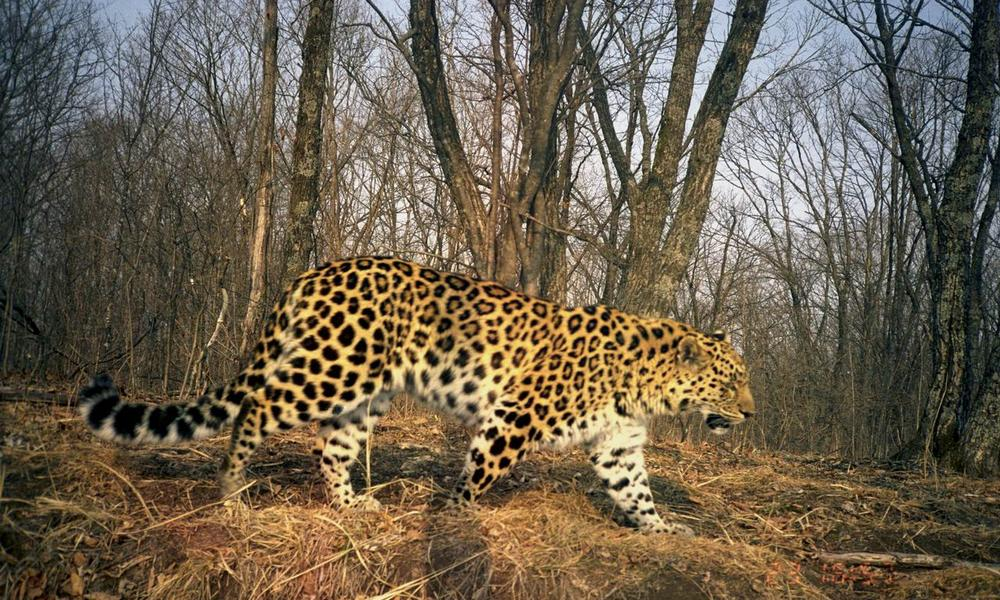amur_leopard: (257, 236, 797, 535)
